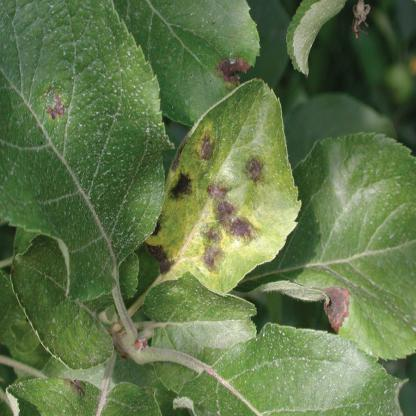Apple Scab Leaf: (0, 2, 179, 318), (148, 70, 301, 301)
